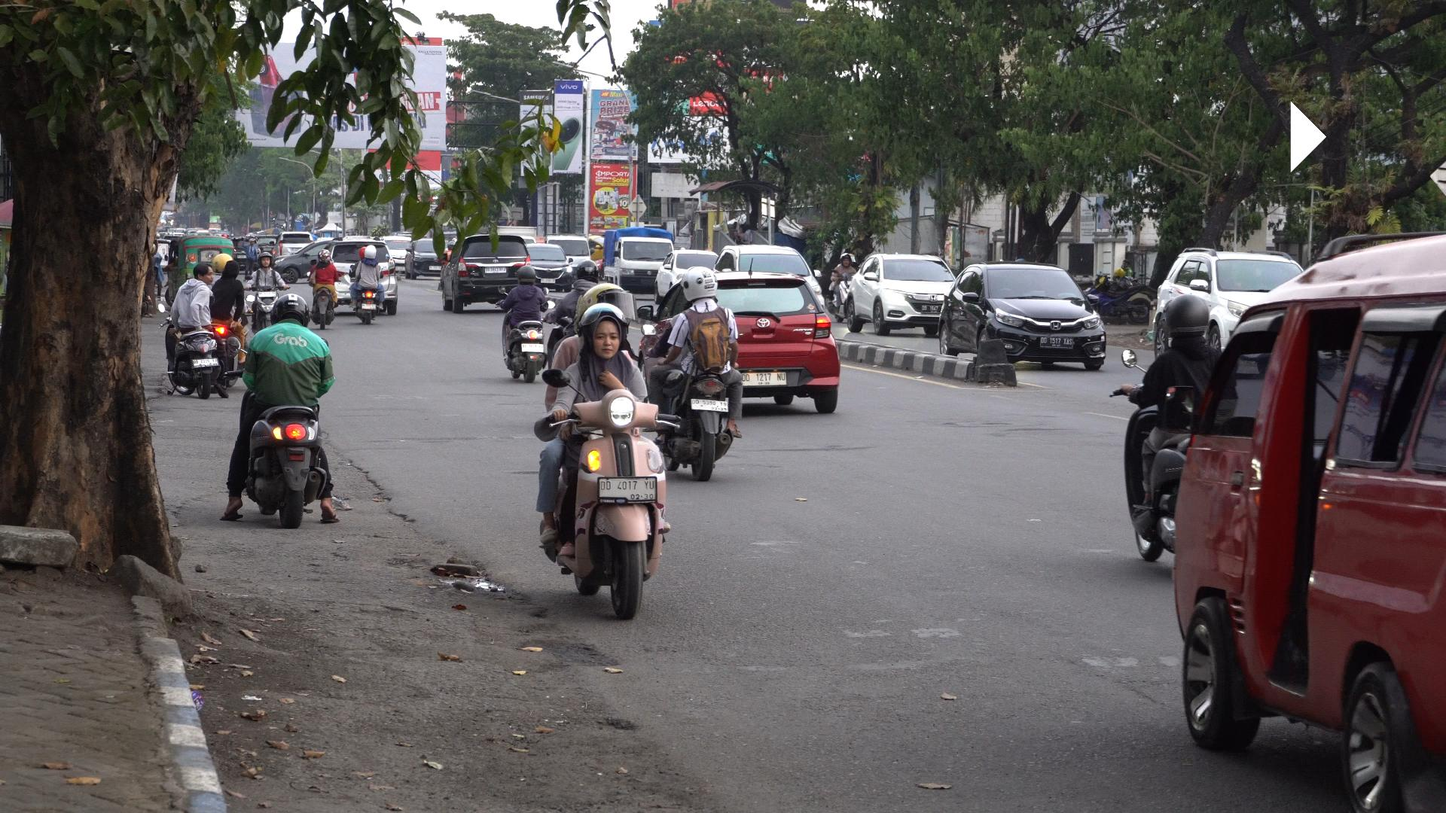number-plate: (595, 474, 661, 508)
